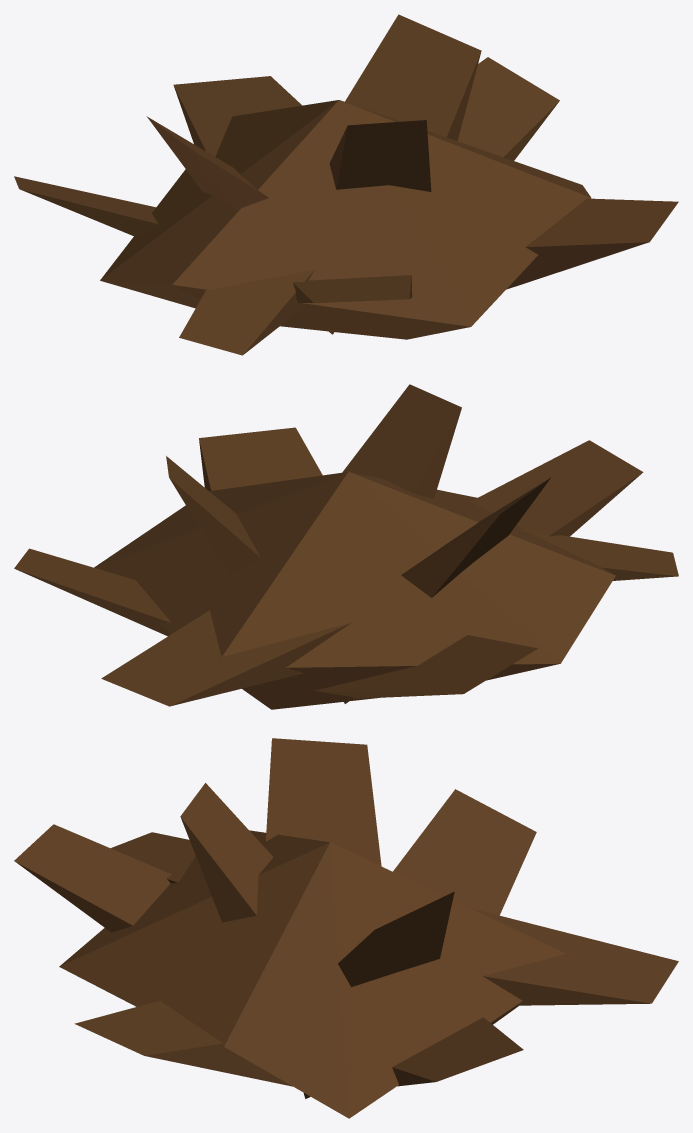
Rendered from SM_Flower_Dandelion_Floating_Single_Mature_A.fbx.
3 renders of one model, top to bottom at view 1: azimuth 30°, elevation 25°; view 2: azimuth 150°, elevation 25°; view 3: azimuth 270°, elevation 25°, orthographic. The views are drawn at different scales.
Parts seen in each view (by area): view 1: flower-dandelion-floating-single-mature-a; view 2: flower-dandelion-floating-single-mature-a; view 3: flower-dandelion-floating-single-mature-a.
Boxes of the visible parts, <box> form: flower-dandelion-floating-single-mature-a: <box>14,14,678,355</box>; flower-dandelion-floating-single-mature-a: <box>14,384,678,709</box>; flower-dandelion-floating-single-mature-a: <box>14,738,678,1118</box>.
Bounding box in the file's own units: 0.1546 × 0.0731 × 0.1678.
